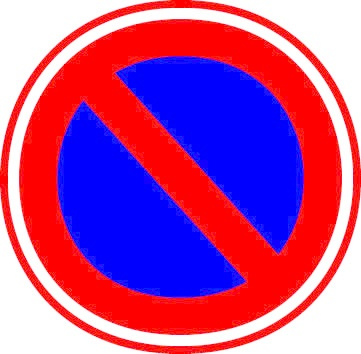Prohibition_sign: (3, 1, 359, 352)
